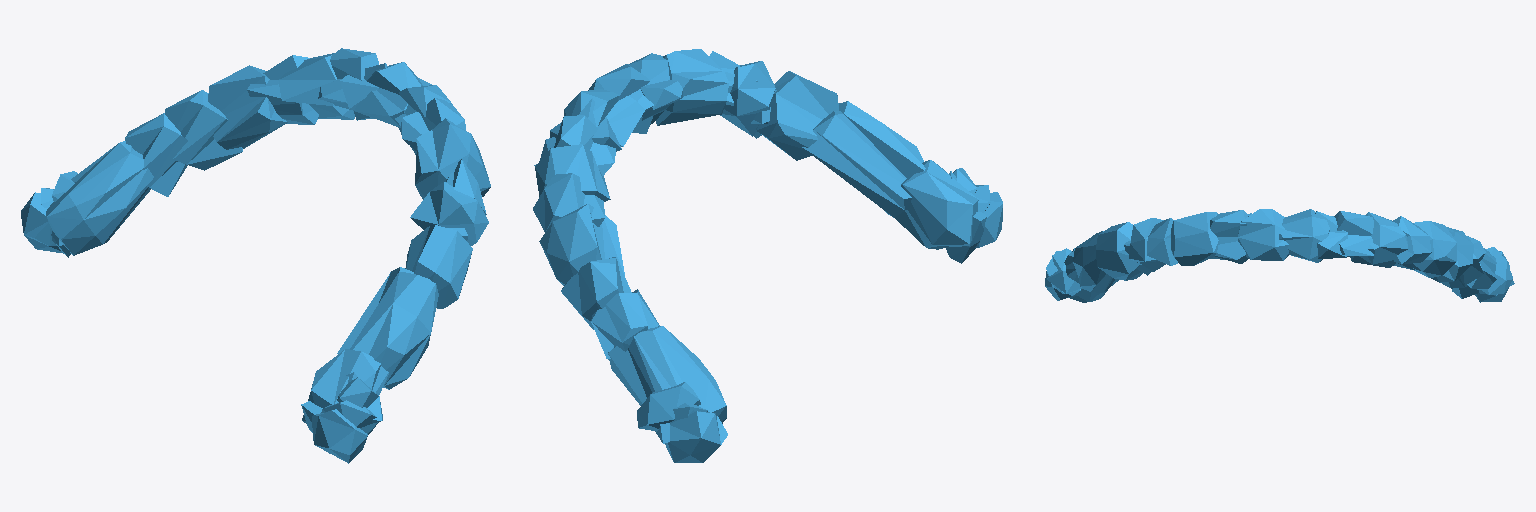
robot.urdf — partnet_1467dd73-ed45-48f2-aa43-7dfc075e33e9:
<?xml version="1.0" ?><robot name="partnet_1467dd73-ed45-48f2-aa43-7dfc075e33e9">
	<link name="base"/>
	<link name="link_0">
		<visual>
			<origin xyz="0 -0.5615423763808596 0.01884142197784891"/>
			<geometry>
				<mesh filename="new_objs/100431_link_0_2.obj"/>
			</geometry>
		</visual>
	<visual>
			<origin xyz="0 -0.5615423763808596 0.01884142197784891"/>
			<geometry>
				<mesh filename="new_objs/100431_link_0_20.obj"/>
			</geometry>
		</visual>
	<visual>
			<origin xyz="0 -0.5615423763808596 0.01884142197784891"/>
			<geometry>
				<mesh filename="new_objs/100431_link_0_12.obj"/>
			</geometry>
		</visual>
	<visual>
			<origin xyz="0 -0.5615423763808596 0.01884142197784891"/>
			<geometry>
				<mesh filename="new_objs/100431_link_0_10.obj"/>
			</geometry>
		</visual>
	<visual>
			<origin xyz="0 -0.5615423763808596 0.01884142197784891"/>
			<geometry>
				<mesh filename="new_objs/100431_link_0_17.obj"/>
			</geometry>
		</visual>
	<visual>
			<origin xyz="0 -0.5615423763808596 0.01884142197784891"/>
			<geometry>
				<mesh filename="new_objs/100431_link_0_26.obj"/>
			</geometry>
		</visual>
	<visual>
			<origin xyz="0 -0.5615423763808596 0.01884142197784891"/>
			<geometry>
				<mesh filename="new_objs/100431_link_0_25.obj"/>
			</geometry>
		</visual>
	<visual>
			<origin xyz="0 -0.5615423763808596 0.01884142197784891"/>
			<geometry>
				<mesh filename="new_objs/100431_link_0_13.obj"/>
			</geometry>
		</visual>
	<visual>
			<origin xyz="0 -0.5615423763808596 0.01884142197784891"/>
			<geometry>
				<mesh filename="new_objs/100431_link_0_24.obj"/>
			</geometry>
		</visual>
	<visual>
			<origin xyz="0 -0.5615423763808596 0.01884142197784891"/>
			<geometry>
				<mesh filename="new_objs/100431_link_0_15.obj"/>
			</geometry>
		</visual>
	<visual>
			<origin xyz="0 -0.5615423763808596 0.01884142197784891"/>
			<geometry>
				<mesh filename="new_objs/100431_link_0_23.obj"/>
			</geometry>
		</visual>
	<visual>
			<origin xyz="0 -0.5615423763808596 0.01884142197784891"/>
			<geometry>
				<mesh filename="new_objs/100431_link_0_22.obj"/>
			</geometry>
		</visual>
	<visual>
			<origin xyz="0 -0.5615423763808596 0.01884142197784891"/>
			<geometry>
				<mesh filename="new_objs/100431_link_0_8.obj"/>
			</geometry>
		</visual>
	<visual>
			<origin xyz="0 -0.5615423763808596 0.01884142197784891"/>
			<geometry>
				<mesh filename="new_objs/100431_link_0_14.obj"/>
			</geometry>
		</visual>
	<visual>
			<origin xyz="0 -0.5615423763808596 0.01884142197784891"/>
			<geometry>
				<mesh filename="new_objs/100431_link_0_21.obj"/>
			</geometry>
		</visual>
	<visual>
			<origin xyz="0 -0.5615423763808596 0.01884142197784891"/>
			<geometry>
				<mesh filename="new_objs/100431_link_0_1.obj"/>
			</geometry>
		</visual>
	<visual>
			<origin xyz="0 -0.5615423763808596 0.01884142197784891"/>
			<geometry>
				<mesh filename="new_objs/100431_link_0_7.obj"/>
			</geometry>
		</visual>
	<visual>
			<origin xyz="0 -0.5615423763808596 0.01884142197784891"/>
			<geometry>
				<mesh filename="new_objs/100431_link_0_5.obj"/>
			</geometry>
		</visual>
	<visual>
			<origin xyz="0 -0.5615423763808596 0.01884142197784891"/>
			<geometry>
				<mesh filename="new_objs/100431_link_0_19.obj"/>
			</geometry>
		</visual>
	<visual>
			<origin xyz="0 -0.5615423763808596 0.01884142197784891"/>
			<geometry>
				<mesh filename="new_objs/100431_link_0_11.obj"/>
			</geometry>
		</visual>
	<visual>
			<origin xyz="0 -0.5615423763808596 0.01884142197784891"/>
			<geometry>
				<mesh filename="new_objs/100431_link_0_6.obj"/>
			</geometry>
		</visual>
	<visual>
			<origin xyz="0 -0.5615423763808596 0.01884142197784891"/>
			<geometry>
				<mesh filename="new_objs/100431_link_0_3.obj"/>
			</geometry>
		</visual>
	<visual>
			<origin xyz="0 -0.5615423763808596 0.01884142197784891"/>
			<geometry>
				<mesh filename="new_objs/100431_link_0_18.obj"/>
			</geometry>
		</visual>
	<visual>
			<origin xyz="0 -0.5615423763808596 0.01884142197784891"/>
			<geometry>
				<mesh filename="new_objs/100431_link_0_0.obj"/>
			</geometry>
		</visual>
	<visual>
			<origin xyz="0 -0.5615423763808596 0.01884142197784891"/>
			<geometry>
				<mesh filename="new_objs/100431_link_0_9.obj"/>
			</geometry>
		</visual>
	<visual>
			<origin xyz="0 -0.5615423763808596 0.01884142197784891"/>
			<geometry>
				<mesh filename="new_objs/100431_link_0_4.obj"/>
			</geometry>
		</visual>
	<visual>
			<origin xyz="0 -0.5615423763808596 0.01884142197784891"/>
			<geometry>
				<mesh filename="new_objs/100431_link_0_16.obj"/>
			</geometry>
		</visual>
	
		<collision>
			<origin xyz="0 -0.5615423763808596 0.01884142197784891"/>
			<geometry>
				<mesh filename="new_objs/100431_link_0_2.obj"/>
			</geometry>
		</collision><collision>
			<origin xyz="0 -0.5615423763808596 0.01884142197784891"/>
			<geometry>
				<mesh filename="new_objs/100431_link_0_20.obj"/>
			</geometry>
		</collision><collision>
			<origin xyz="0 -0.5615423763808596 0.01884142197784891"/>
			<geometry>
				<mesh filename="new_objs/100431_link_0_12.obj"/>
			</geometry>
		</collision><collision>
			<origin xyz="0 -0.5615423763808596 0.01884142197784891"/>
			<geometry>
				<mesh filename="new_objs/100431_link_0_10.obj"/>
			</geometry>
		</collision><collision>
			<origin xyz="0 -0.5615423763808596 0.01884142197784891"/>
			<geometry>
				<mesh filename="new_objs/100431_link_0_17.obj"/>
			</geometry>
		</collision><collision>
			<origin xyz="0 -0.5615423763808596 0.01884142197784891"/>
			<geometry>
				<mesh filename="new_objs/100431_link_0_26.obj"/>
			</geometry>
		</collision><collision>
			<origin xyz="0 -0.5615423763808596 0.01884142197784891"/>
			<geometry>
				<mesh filename="new_objs/100431_link_0_25.obj"/>
			</geometry>
		</collision><collision>
			<origin xyz="0 -0.5615423763808596 0.01884142197784891"/>
			<geometry>
				<mesh filename="new_objs/100431_link_0_13.obj"/>
			</geometry>
		</collision><collision>
			<origin xyz="0 -0.5615423763808596 0.01884142197784891"/>
			<geometry>
				<mesh filename="new_objs/100431_link_0_24.obj"/>
			</geometry>
		</collision><collision>
			<origin xyz="0 -0.5615423763808596 0.01884142197784891"/>
			<geometry>
				<mesh filename="new_objs/100431_link_0_15.obj"/>
			</geometry>
		</collision><collision>
			<origin xyz="0 -0.5615423763808596 0.01884142197784891"/>
			<geometry>
				<mesh filename="new_objs/100431_link_0_23.obj"/>
			</geometry>
		</collision><collision>
			<origin xyz="0 -0.5615423763808596 0.01884142197784891"/>
			<geometry>
				<mesh filename="new_objs/100431_link_0_22.obj"/>
			</geometry>
		</collision><collision>
			<origin xyz="0 -0.5615423763808596 0.01884142197784891"/>
			<geometry>
				<mesh filename="new_objs/100431_link_0_8.obj"/>
			</geometry>
		</collision><collision>
			<origin xyz="0 -0.5615423763808596 0.01884142197784891"/>
			<geometry>
				<mesh filename="new_objs/100431_link_0_14.obj"/>
			</geometry>
		</collision><collision>
			<origin xyz="0 -0.5615423763808596 0.01884142197784891"/>
			<geometry>
				<mesh filename="new_objs/100431_link_0_21.obj"/>
			</geometry>
		</collision><collision>
			<origin xyz="0 -0.5615423763808596 0.01884142197784891"/>
			<geometry>
				<mesh filename="new_objs/100431_link_0_1.obj"/>
			</geometry>
		</collision><collision>
			<origin xyz="0 -0.5615423763808596 0.01884142197784891"/>
			<geometry>
				<mesh filename="new_objs/100431_link_0_7.obj"/>
			</geometry>
		</collision><collision>
			<origin xyz="0 -0.5615423763808596 0.01884142197784891"/>
			<geometry>
				<mesh filename="new_objs/100431_link_0_5.obj"/>
			</geometry>
		</collision><collision>
			<origin xyz="0 -0.5615423763808596 0.01884142197784891"/>
			<geometry>
				<mesh filename="new_objs/100431_link_0_19.obj"/>
			</geometry>
		</collision><collision>
			<origin xyz="0 -0.5615423763808596 0.01884142197784891"/>
			<geometry>
				<mesh filename="new_objs/100431_link_0_11.obj"/>
			</geometry>
		</collision><collision>
			<origin xyz="0 -0.5615423763808596 0.01884142197784891"/>
			<geometry>
				<mesh filename="new_objs/100431_link_0_6.obj"/>
			</geometry>
		</collision><collision>
			<origin xyz="0 -0.5615423763808596 0.01884142197784891"/>
			<geometry>
				<mesh filename="new_objs/100431_link_0_3.obj"/>
			</geometry>
		</collision><collision>
			<origin xyz="0 -0.5615423763808596 0.01884142197784891"/>
			<geometry>
				<mesh filename="new_objs/100431_link_0_18.obj"/>
			</geometry>
		</collision><collision>
			<origin xyz="0 -0.5615423763808596 0.01884142197784891"/>
			<geometry>
				<mesh filename="new_objs/100431_link_0_0.obj"/>
			</geometry>
		</collision><collision>
			<origin xyz="0 -0.5615423763808596 0.01884142197784891"/>
			<geometry>
				<mesh filename="new_objs/100431_link_0_9.obj"/>
			</geometry>
		</collision><collision>
			<origin xyz="0 -0.5615423763808596 0.01884142197784891"/>
			<geometry>
				<mesh filename="new_objs/100431_link_0_4.obj"/>
			</geometry>
		</collision><collision>
			<origin xyz="0 -0.5615423763808596 0.01884142197784891"/>
			<geometry>
				<mesh filename="new_objs/100431_link_0_16.obj"/>
			</geometry>
		</collision></link>
	<joint name="joint_0" type="revolute">
		<origin xyz="0 0.5615423763808596 -0.01884142197784891"/>
		<axis xyz="-1 0 0"/>
		<child link="link_0"/>
		<parent link="link_1"/>
		<limit lower="-2.028" upper="0.076"/>
	</joint>
	<link name="link_1">
		<collision>
			<origin xyz="0 0 0"/>
			<geometry>
				<mesh filename="new_objs/100431_link_1_20.obj"/>
			</geometry>
		</collision>
		<collision>
			<origin xyz="0 0 0"/>
			<geometry>
				<mesh filename="new_objs/100431_link_1_14.obj"/>
			</geometry>
		</collision>
		<collision>
			<origin xyz="0 0 0"/>
			<geometry>
				<mesh filename="new_objs/100431_link_1_15.obj"/>
			</geometry>
		</collision>
		<collision>
			<origin xyz="0 0 0"/>
			<geometry>
				<mesh filename="new_objs/100431_link_1_28.obj"/>
			</geometry>
		</collision>
		<collision>
			<origin xyz="0 0 0"/>
			<geometry>
				<mesh filename="new_objs/100431_link_1_6.obj"/>
			</geometry>
		</collision>
		<collision>
			<origin xyz="0 0 0"/>
			<geometry>
				<mesh filename="new_objs/100431_link_1_0.obj"/>
			</geometry>
		</collision>
		<collision>
			<origin xyz="0 0 0"/>
			<geometry>
				<mesh filename="new_objs/100431_link_1_29.obj"/>
			</geometry>
		</collision>
		<collision>
			<origin xyz="0 0 0"/>
			<geometry>
				<mesh filename="new_objs/100431_link_1_19.obj"/>
			</geometry>
		</collision>
		<collision>
			<origin xyz="0 0 0"/>
			<geometry>
				<mesh filename="new_objs/100431_link_1_4.obj"/>
			</geometry>
		</collision>
		<collision>
			<origin xyz="0 0 0"/>
			<geometry>
				<mesh filename="new_objs/100431_link_1_26.obj"/>
			</geometry>
		</collision>
		<collision>
			<origin xyz="0 0 0"/>
			<geometry>
				<mesh filename="new_objs/100431_link_1_5.obj"/>
			</geometry>
		</collision>
		<collision>
			<origin xyz="0 0 0"/>
			<geometry>
				<mesh filename="new_objs/100431_link_1_8.obj"/>
			</geometry>
		</collision>
		<collision>
			<origin xyz="0 0 0"/>
			<geometry>
				<mesh filename="new_objs/100431_link_1_23.obj"/>
			</geometry>
		</collision>
		<collision>
			<origin xyz="0 0 0"/>
			<geometry>
				<mesh filename="new_objs/100431_link_1_7.obj"/>
			</geometry>
		</collision>
		<collision>
			<origin xyz="0 0 0"/>
			<geometry>
				<mesh filename="new_objs/100431_link_1_22.obj"/>
			</geometry>
		</collision>
		<collision>
			<origin xyz="0 0 0"/>
			<geometry>
				<mesh filename="new_objs/100431_link_1_12.obj"/>
			</geometry>
		</collision>
		<collision>
			<origin xyz="0 0 0"/>
			<geometry>
				<mesh filename="new_objs/100431_link_1_11.obj"/>
			</geometry>
		</collision>
		<collision>
			<origin xyz="0 0 0"/>
			<geometry>
				<mesh filename="new_objs/100431_link_1_21.obj"/>
			</geometry>
		</collision>
		<collision>
			<origin xyz="0 0 0"/>
			<geometry>
				<mesh filename="new_objs/100431_link_1_10.obj"/>
			</geometry>
		</collision>
		<collision>
			<origin xyz="0 0 0"/>
			<geometry>
				<mesh filename="new_objs/100431_link_1_2.obj"/>
			</geometry>
		</collision>
		<collision>
			<origin xyz="0 0 0"/>
			<geometry>
				<mesh filename="new_objs/100431_link_1_27.obj"/>
			</geometry>
		</collision>
		<collision>
			<origin xyz="0 0 0"/>
			<geometry>
				<mesh filename="new_objs/100431_link_1_30.obj"/>
			</geometry>
		</collision>
		<collision>
			<origin xyz="0 0 0"/>
			<geometry>
				<mesh filename="new_objs/100431_link_1_16.obj"/>
			</geometry>
		</collision>
		<collision>
			<origin xyz="0 0 0"/>
			<geometry>
				<mesh filename="new_objs/100431_link_1_32.obj"/>
			</geometry>
		</collision>
		<collision>
			<origin xyz="0 0 0"/>
			<geometry>
				<mesh filename="new_objs/100431_link_1_9.obj"/>
			</geometry>
		</collision>
		<collision>
			<origin xyz="0 0 0"/>
			<geometry>
				<mesh filename="new_objs/100431_link_1_3.obj"/>
			</geometry>
		</collision>
		<collision>
			<origin xyz="0 0 0"/>
			<geometry>
				<mesh filename="new_objs/100431_link_1_24.obj"/>
			</geometry>
		</collision>
		<collision>
			<origin xyz="0 0 0"/>
			<geometry>
				<mesh filename="new_objs/100431_link_1_1.obj"/>
			</geometry>
		</collision>
		<collision>
			<origin xyz="0 0 0"/>
			<geometry>
				<mesh filename="new_objs/100431_link_1_25.obj"/>
			</geometry>
		</collision>
		<collision>
			<origin xyz="0 0 0"/>
			<geometry>
				<mesh filename="new_objs/100431_link_1_18.obj"/>
			</geometry>
		</collision>
		<collision>
			<origin xyz="0 0 0"/>
			<geometry>
				<mesh filename="new_objs/100431_link_1_13.obj"/>
			</geometry>
		</collision>
		<collision>
			<origin xyz="0 0 0"/>
			<geometry>
				<mesh filename="new_objs/100431_link_1_17.obj"/>
			</geometry>
		</collision>
		<collision>
			<origin xyz="0 0 0"/>
			<geometry>
				<mesh filename="new_objs/100431_link_1_31.obj"/>
			</geometry>
		</collision>
		<visual name="base_body-part[&quot;id]">
			<origin xyz="0 0 0"/>
			<geometry>
				<mesh filename="textured_objs/original-4.obj"/>
			</geometry>
		</visual>
		<visual name="base_body-part[&quot;id]">
			<origin xyz="0 0 0"/>
			<geometry>
				<mesh filename="textured_objs/original-3.obj"/>
			</geometry>
		</visual>
		<visual name="base_body-part[&quot;id]">
			<origin xyz="0 0 0"/>
			<geometry>
				<mesh filename="textured_objs/original-1.obj"/>
			</geometry>
		</visual>
		</link>
	<joint name="joint_1" type="fixed">
		<origin rpy="1.570796326794897 0 -1.570796326794897" xyz="0 0 0"/>
		<child link="link_1"/>
		<parent link="base"/>
	</joint>
</robot>

--- Facts derived from the render (not from the file) ---
The picture shows the robot from 3 angles, left to right: view 1: azimuth 30°, elevation 25°; view 2: azimuth 150°, elevation 25°; view 3: azimuth 270°, elevation 25°; orthographic projection.
Robot: partnet_1467dd73-ed45-48f2-aa43-7dfc075e33e9 — 3 links, 2 joints (1 revolute, 1 fixed); root link base; default pose: all joints at 0.
Visible links, largest first — view 1: link_0; view 2: link_0; view 3: link_0.
Link boxes in pixels (bbox=[...]): link_0: bbox=[21, 48, 490, 463]; link_0: bbox=[533, 49, 1002, 462]; link_0: bbox=[1045, 209, 1514, 302].
Size in the robot's own frame: 0.591 by 1.14 by 0.4585 metres.
27 mesh visuals loaded from 30 distinct referenced files (27 OBJ); not drawn: 3 (reference not matched to a file when rendering).
